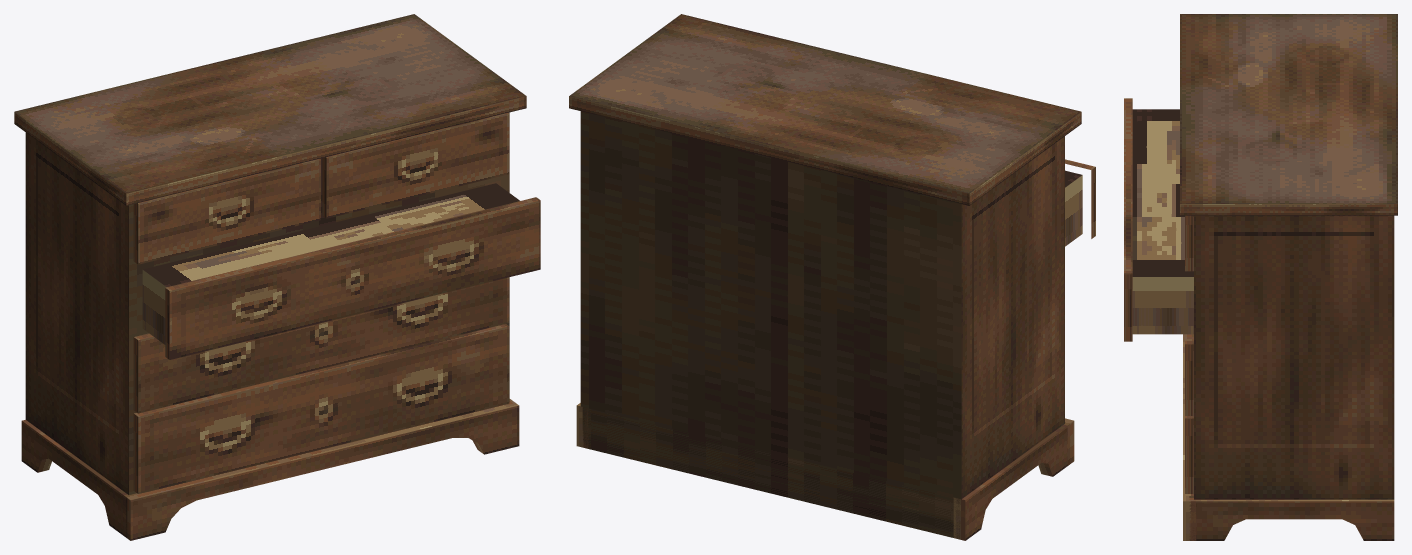
Rendered from dresser_drawers.glb.
The picture shows the model from 3 angles, left to right: view 1: azimuth 30°, elevation 25°; view 2: azimuth 150°, elevation 25°; view 3: azimuth 270°, elevation 25°; orthographic projection. The views are drawn at different scales.
Visible parts, largest first — view 1: dresser_drawers; view 2: dresser_drawers; view 3: dresser_drawers.
Boxes of the visible parts, bbox=[...] form: dresser_drawers: bbox=[14, 14, 540, 540]; dresser_drawers: bbox=[569, 14, 1095, 540]; dresser_drawers: bbox=[1124, 14, 1397, 540].
Bounding box in the file's own units: 1.03 × 0.86 × 0.628.
Materials: 1 (1 with a texture image).
